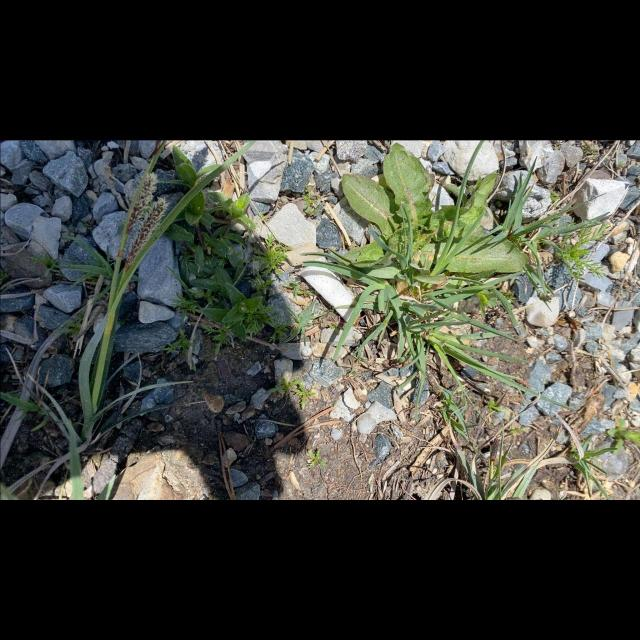cigarette: (301, 256, 364, 325)
